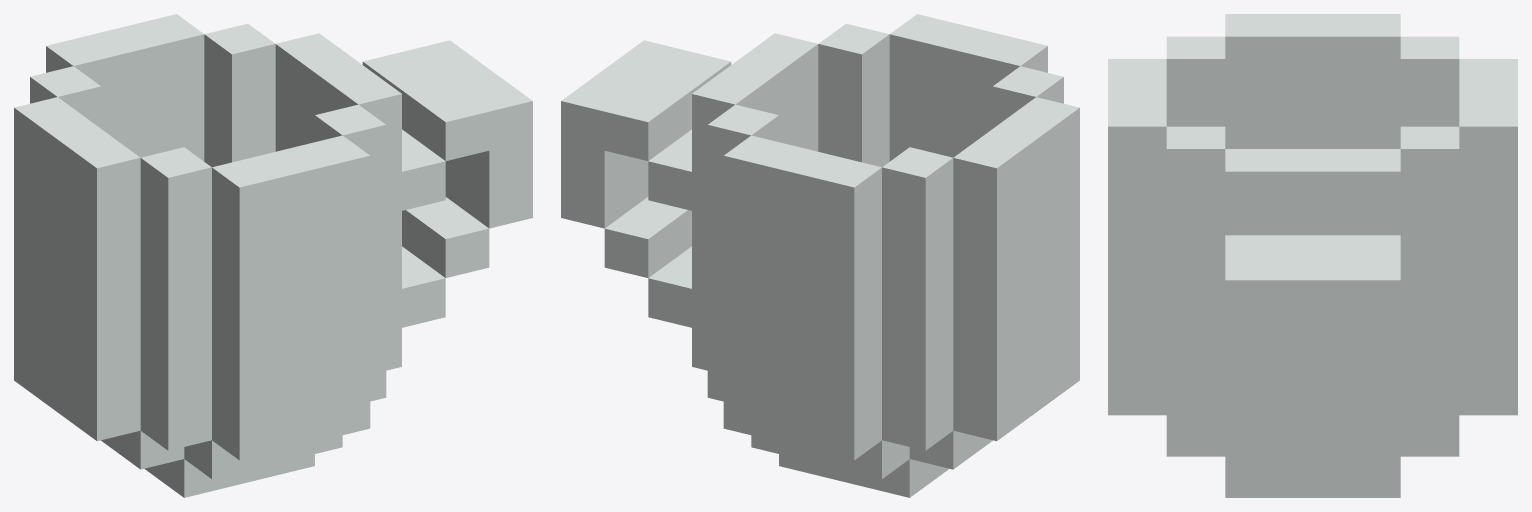
File: mug.fbx
3 renders of one model, left to right at view 1: azimuth 30°, elevation 25°; view 2: azimuth 150°, elevation 25°; view 3: azimuth 270°, elevation 25°, orthographic. The views are drawn at different scales.
Visible parts, largest first — view 1: Mug; view 2: Mug; view 3: Mug.
Part boxes in pixels (x1,y1,x2,y2): Mug: (14, 14, 532, 497); Mug: (561, 14, 1079, 497); Mug: (1108, 14, 1517, 497).
Size of the model in its own units: 13 by 10 by 10.
1 material, 1 textured.
